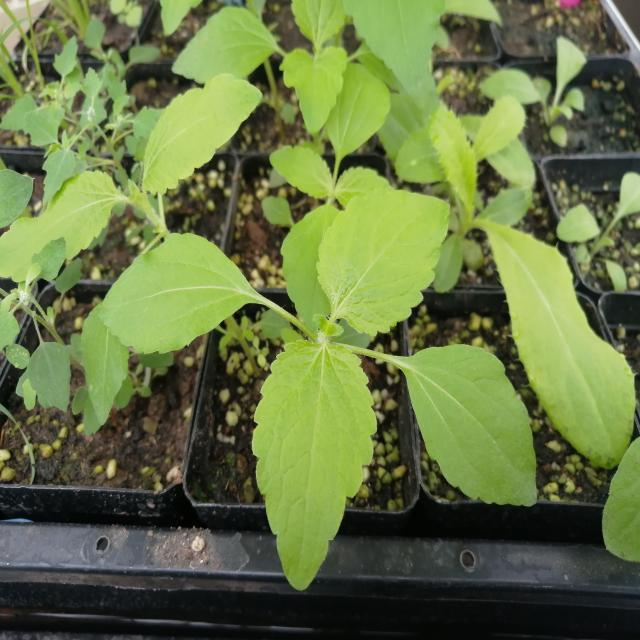billygoat_weed: (118, 192, 535, 578)
